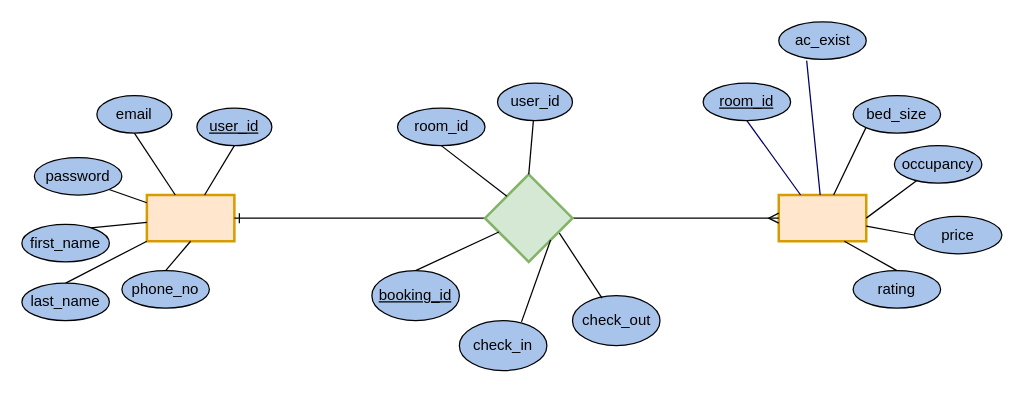
This 1024x393 diagram has some shape labels left out. The shapes that lost their labels are listed below. From the top down, each one's centre as x and y in pixels, then its label:
At pixel 190 217: "User".
At pixel 528 217: "Booking".
At pixel 822 217: "Room".
